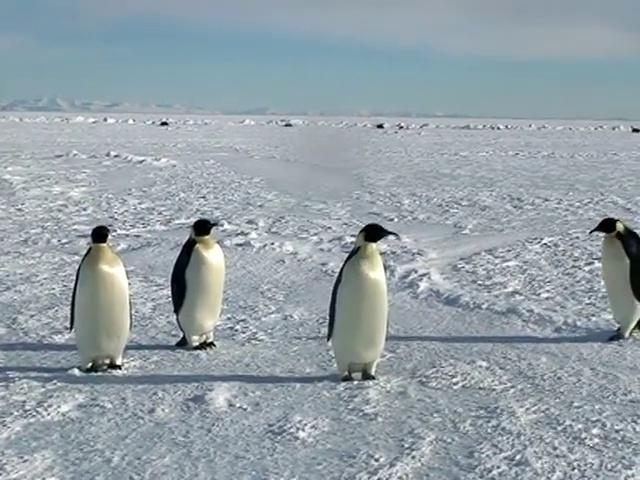animal: (329, 225, 399, 382)
